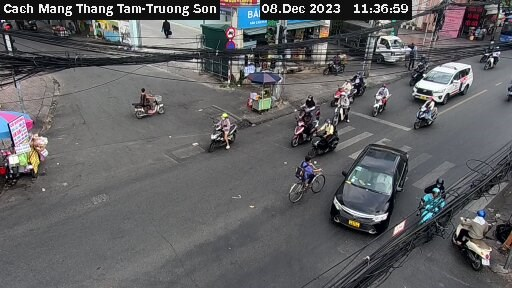car: (327, 139, 409, 240), (412, 58, 474, 108)
motorbike: (454, 208, 499, 273), (126, 88, 177, 129), (198, 113, 239, 151), (307, 119, 338, 153), (412, 98, 442, 132), (329, 93, 356, 129), (294, 92, 321, 125), (417, 192, 438, 232), (366, 82, 393, 112), (291, 115, 314, 149), (350, 67, 373, 100), (330, 79, 355, 107)
truck: (338, 18, 408, 64)
